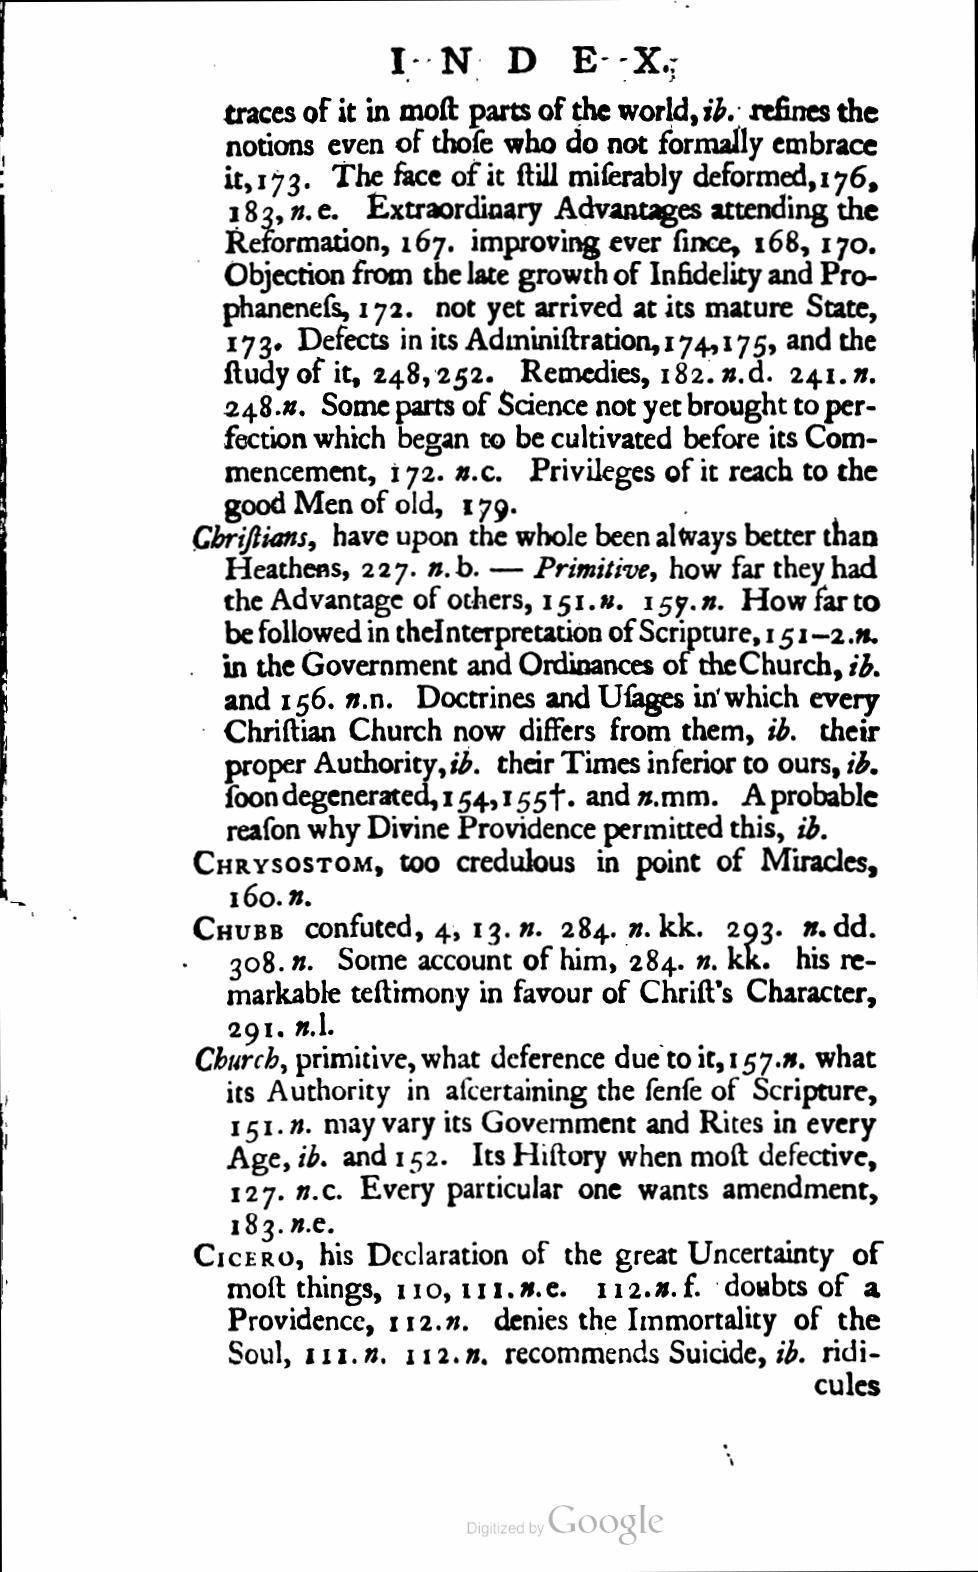bottom_p: (219, 91, 881, 523)
catchword: (812, 1369, 881, 1398)
full_p: (192, 522, 884, 846), (192, 1042, 880, 1243), (190, 909, 880, 1045), (190, 846, 880, 911)
header: (384, 38, 670, 80)
top_p: (192, 1241, 886, 1371)
